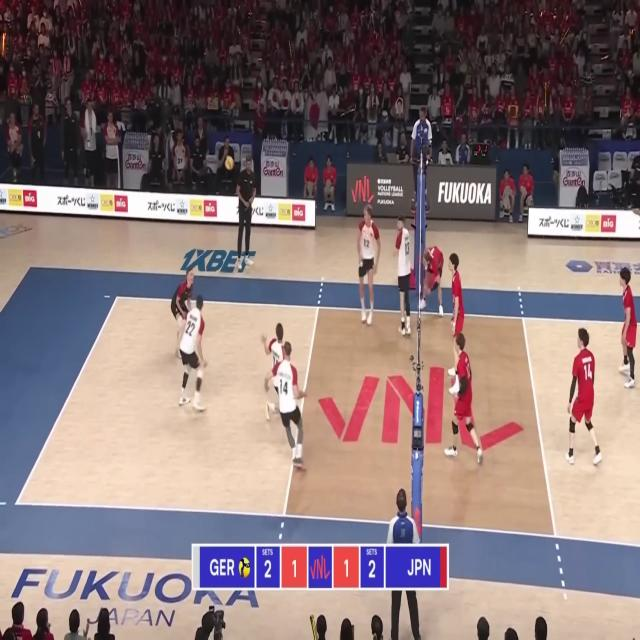referee: (383, 487, 422, 640)
team_one: (264, 342, 308, 473), (179, 294, 208, 413), (356, 207, 381, 324), (262, 321, 288, 424), (393, 217, 412, 337), (171, 268, 195, 361)
team_two: (444, 333, 484, 466), (566, 326, 603, 468), (618, 265, 636, 391), (449, 252, 464, 393), (422, 244, 444, 316)
